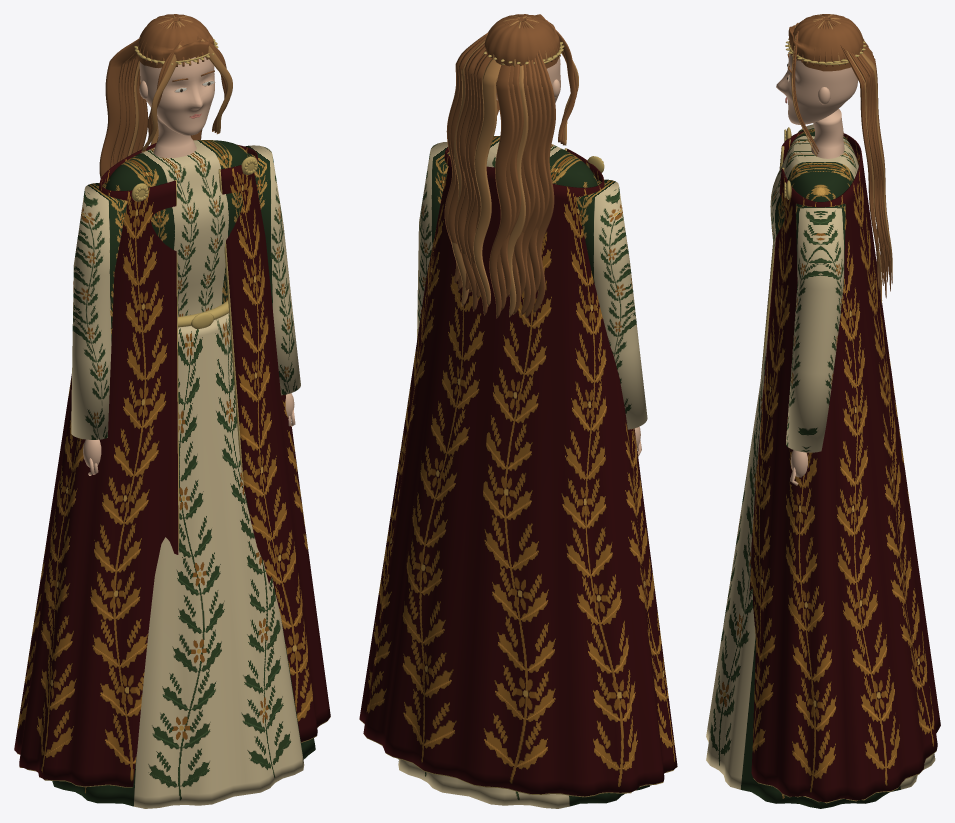
Rendered from princess-v13-standing.glb.
3 renders of one model, left to right at view 1: azimuth 30°, elevation 25°; view 2: azimuth 150°, elevation 25°; view 3: azimuth 270°, elevation 25°, orthographic.
Visible parts, largest first — view 1: cape_surface, MorrisPrincess_surface, body_surface, head_surface, armL_surface, armR_surface; view 2: cape_surface, head_surface, armL_surface, MorrisPrincess_surface, armR_surface, body_surface; view 3: cape_surface, MorrisPrincess_surface, head_surface, armR_surface, body_surface.
Part boxes in pixels (x1=…): cape_surface: x1=14, y1=143, x2=330, y2=787; MorrisPrincess_surface: x1=52, y1=313, x2=315, y2=808; body_surface: x1=105, y1=116, x2=257, y2=328; head_surface: x1=99, y1=14, x2=232, y2=178; armL_surface: x1=71, y1=183, x2=127, y2=475; armR_surface: x1=245, y1=145, x2=300, y2=426; cape_surface: x1=359, y1=147, x2=677, y2=797; head_surface: x1=444, y1=14, x2=578, y2=318; armL_surface: x1=576, y1=179, x2=647, y2=456; MorrisPrincess_surface: x1=398, y1=759, x2=650, y2=808; armR_surface: x1=417, y1=142, x2=449, y2=339; body_surface: x1=486, y1=136, x2=604, y2=187; cape_surface: x1=749, y1=131, x2=940, y2=803; MorrisPrincess_surface: x1=706, y1=326, x2=935, y2=808; head_surface: x1=776, y1=14, x2=892, y2=304; armR_surface: x1=786, y1=203, x2=845, y2=485; body_surface: x1=770, y1=109, x2=858, y2=299.
Size of the model in its own units: 0.6912 by 1.66 by 0.4759.
10 materials, 2 textured.
